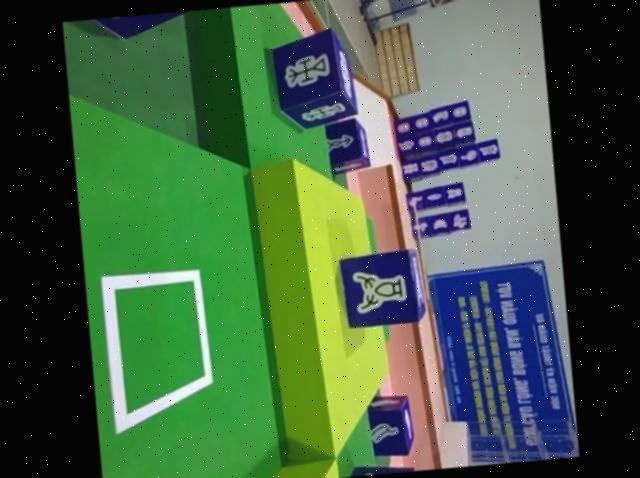R2 Real Blue: (268, 25, 358, 131), (336, 244, 427, 328), (61, 9, 208, 48), (362, 392, 412, 458), (320, 113, 369, 173)
